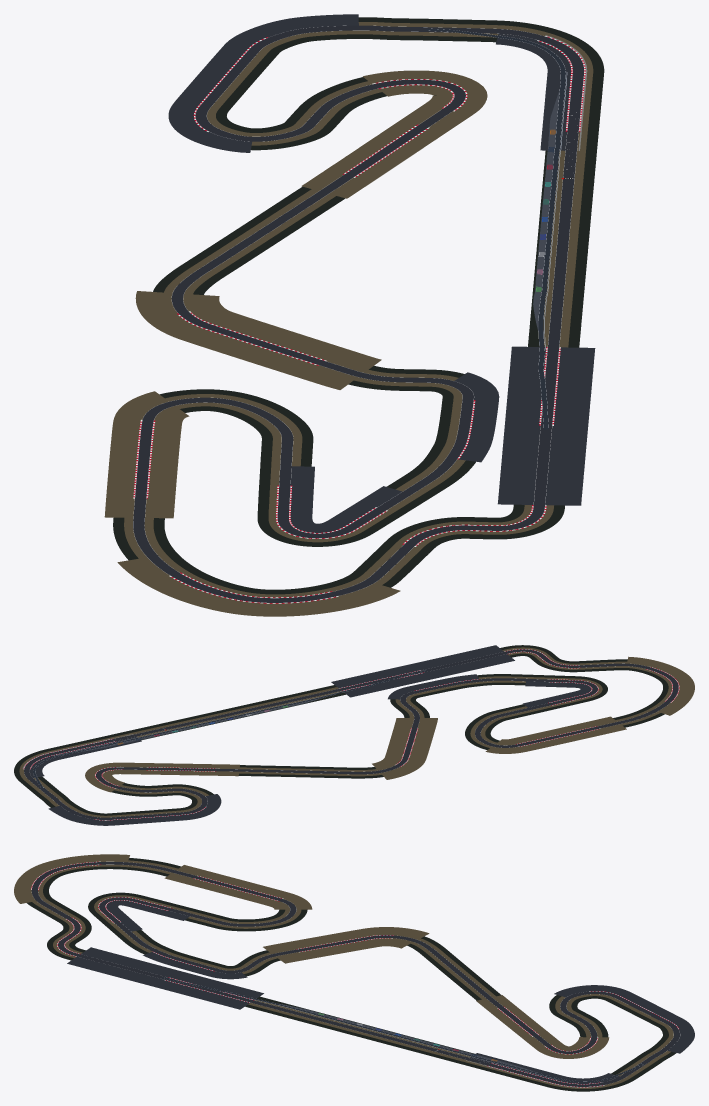
File: barcelona.glb
3 renders of one model, top to bottom at view 1: azimuth 30°, elevation 25°; view 2: azimuth 150°, elevation 25°; view 3: azimuth 270°, elevation 25°, orthographic. The views are drawn at different scales.
Parts seen in each view (by area): view 1: barcelona_03_5a4f3a, barcelona_00_181e1a, barcelona_06_272b35, barcelona_02_2a2e38, barcelona_01_5a4f3a, barcelona_08_ffffff, barcelona_10_242c38, barcelona_05_ffffff, barcelona_04_d90429, barcelona_09_404753; view 2: barcelona_00_181e1a, barcelona_03_5a4f3a, barcelona_06_272b35, barcelona_02_2a2e38, barcelona_01_5a4f3a, barcelona_10_242c38, barcelona_04_d90429, barcelona_05_ffffff, barcelona_09_404753; view 3: barcelona_03_5a4f3a, barcelona_00_181e1a, barcelona_06_272b35, barcelona_02_2a2e38, barcelona_01_5a4f3a, barcelona_10_242c38, barcelona_04_d90429, barcelona_05_ffffff, barcelona_09_404753.
Boxes of the visible parts, box(x1,y1,x2,y2) form: barcelona_03_5a4f3a: box(104, 70, 487, 616); barcelona_00_181e1a: box(113, 17, 604, 594); barcelona_06_272b35: box(133, 25, 584, 602); barcelona_02_2a2e38: box(168, 14, 595, 532); barcelona_01_5a4f3a: box(124, 22, 593, 597); barcelona_08_ffffff: box(133, 25, 584, 602); barcelona_10_242c38: box(426, 28, 565, 429); barcelona_05_ffffff: box(133, 36, 585, 603); barcelona_04_d90429: box(133, 36, 585, 603); barcelona_09_404753: box(533, 90, 559, 331); barcelona_00_181e1a: box(14, 645, 668, 815); barcelona_03_5a4f3a: box(85, 656, 694, 792); barcelona_06_272b35: box(24, 649, 678, 819); barcelona_02_2a2e38: box(29, 645, 591, 825); barcelona_01_5a4f3a: box(19, 647, 672, 817); barcelona_10_242c38: box(33, 670, 426, 792); barcelona_04_d90429: box(23, 649, 679, 820); barcelona_05_ffffff: box(23, 649, 679, 820); barcelona_09_404753: box(77, 697, 325, 752); barcelona_03_5a4f3a: box(14, 854, 609, 1058); barcelona_00_181e1a: box(27, 858, 676, 1091); barcelona_06_272b35: box(31, 862, 679, 1086); barcelona_02_2a2e38: box(67, 900, 694, 1083); barcelona_01_5a4f3a: box(32, 860, 673, 1088); barcelona_10_242c38: box(161, 977, 644, 1082); barcelona_04_d90429: box(31, 861, 678, 1087); barcelona_05_ffffff: box(31, 861, 678, 1087); barcelona_09_404753: box(275, 1003, 536, 1072).
Size of the model in its own units: 1025 by 0.33 by 1243.
